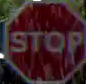Stop: (2, 0, 85, 83)
